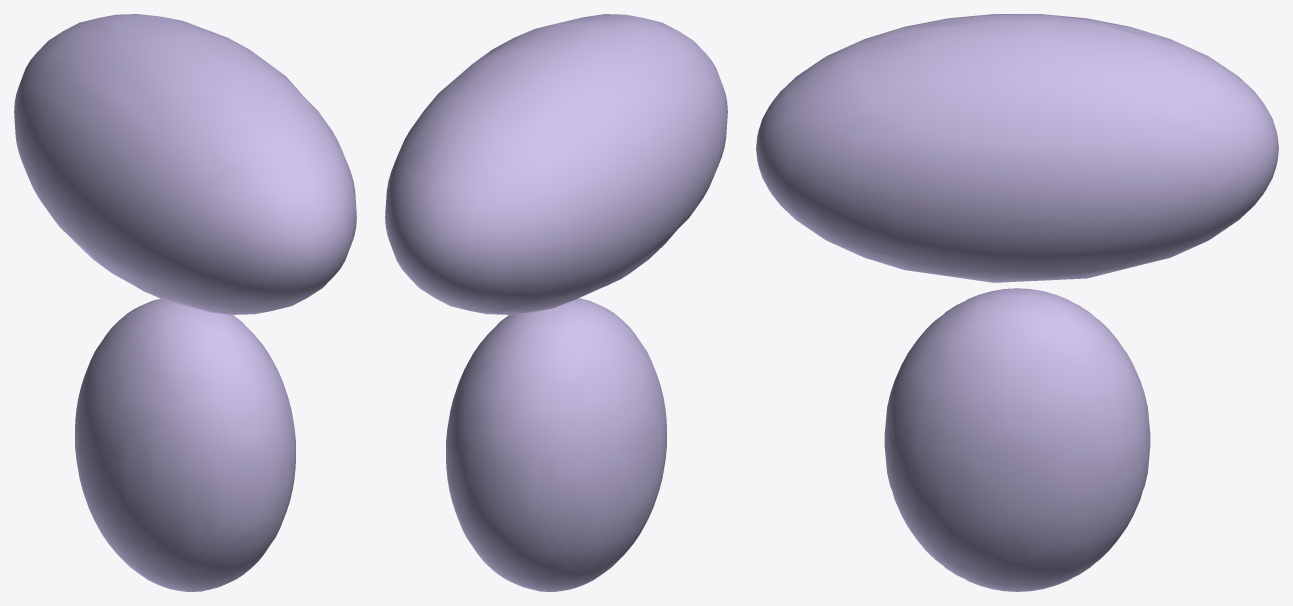
Rendered from characterLowPoly.fbx.
The picture shows the model from 3 angles, left to right: view 1: azimuth 30°, elevation 25°; view 2: azimuth 150°, elevation 25°; view 3: azimuth 270°, elevation 25°; orthographic projection. The views are drawn at different scales.
Visible parts, largest first — view 1: Cube.001; view 2: Cube.001; view 3: Cube.001.
Part boxes in pixels (left/top/right/bottom): Cube.001: left=14, top=14, right=356, bottom=591; Cube.001: left=385, top=14, right=727, bottom=591; Cube.001: left=756, top=14, right=1278, bottom=591.
Bounding box in the file's own units: 150 × 326 × 278.
